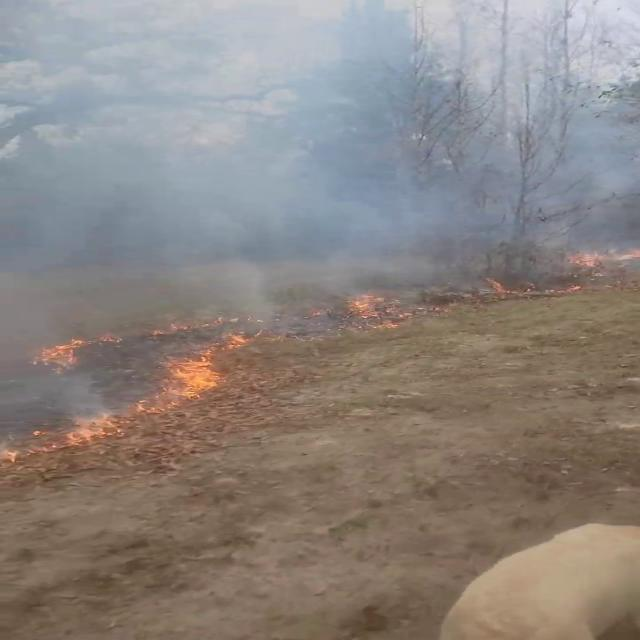Fire: (61, 344, 229, 446), (28, 333, 98, 375), (336, 286, 406, 326), (562, 242, 634, 274)
Smoke: (4, 1, 638, 343)
